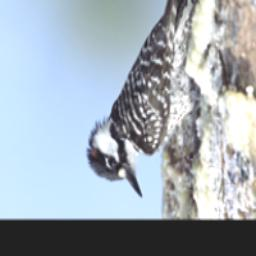Woodpecker: (85, 0, 231, 205)
